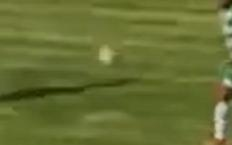ball: (96, 40, 126, 70)
